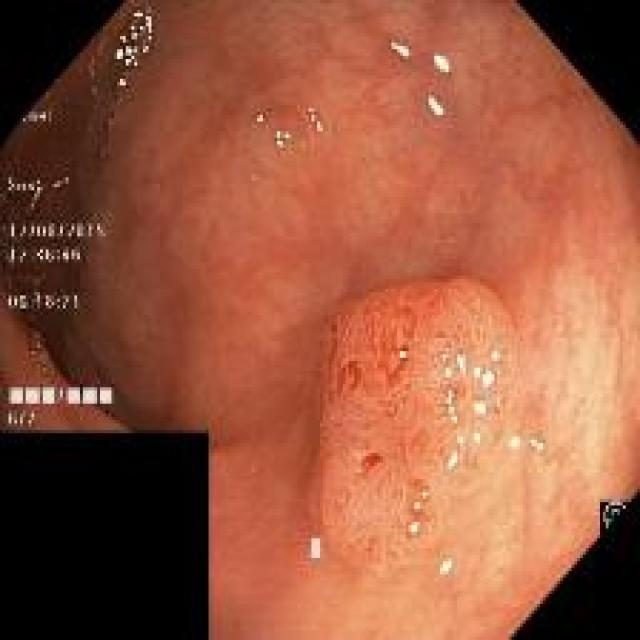Polyps: (316, 280, 529, 568)
